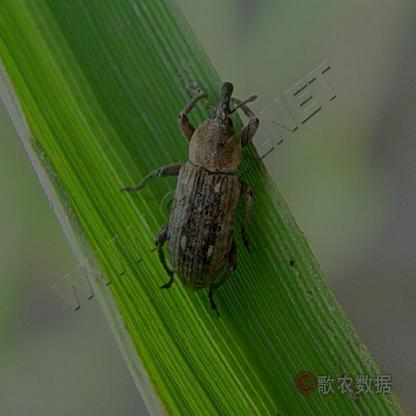rice-bug: (144, 80, 263, 300)
